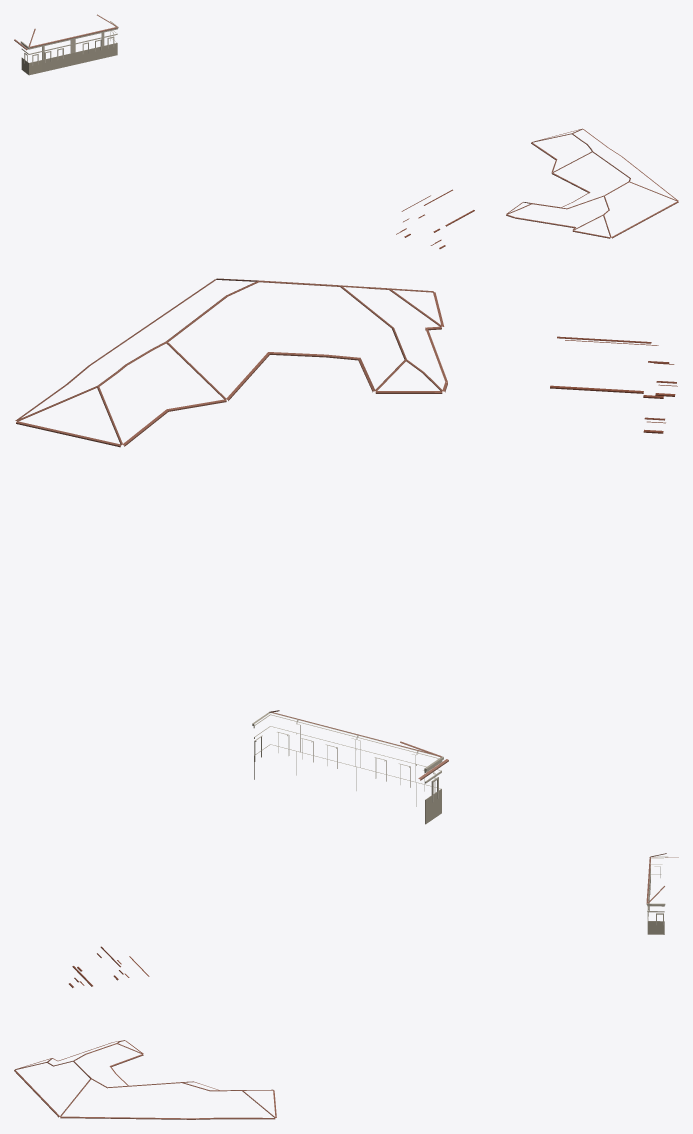
3 views of the same model, one above another, from view 1: azimuth 30°, elevation 25°; view 2: azimuth 150°, elevation 25°; view 3: azimuth 270°, elevation 25° (orthographic). The views are drawn at different scales.
Visible parts, largest first — view 1: detail; view 2: detail; view 3: detail.
Boxes of the visible parts, bbox=[...] form: detail: bbox=[14, 14, 678, 248]; detail: bbox=[15, 278, 677, 824]; detail: bbox=[14, 853, 678, 1119].
Bounding box in the file's own units: 104 × 15.77 × 140.
